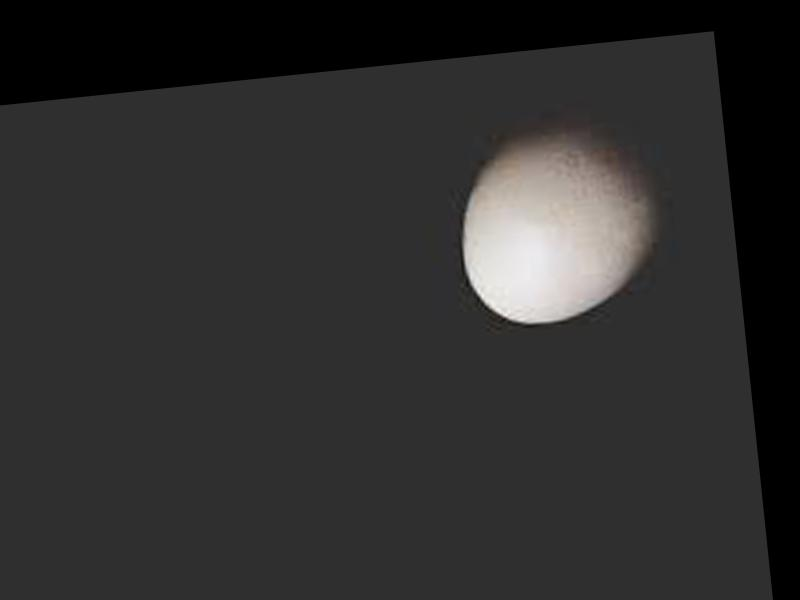Eggs: (451, 114, 675, 332)
